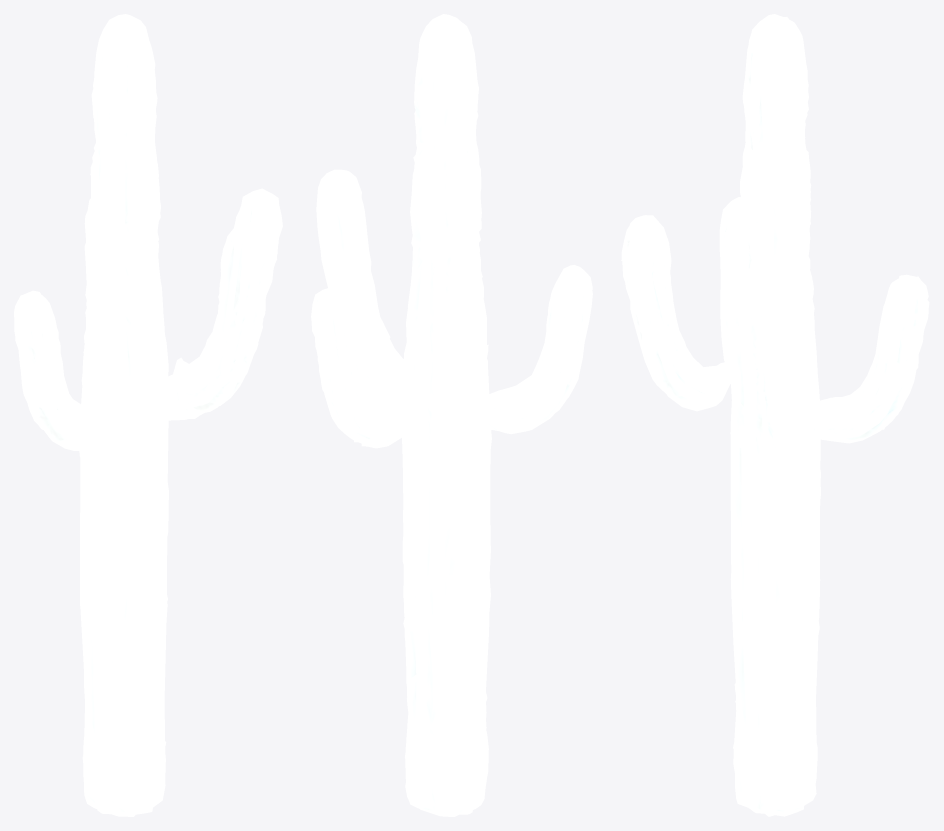
The model's file is saguaro.glb.
3 views of the same model, side by side, from view 1: azimuth 30°, elevation 25°; view 2: azimuth 150°, elevation 25°; view 3: azimuth 270°, elevation 25° (orthographic).
Parts seen in each view (by area): view 1: Mesh_0; view 2: Mesh_0; view 3: Mesh_0.
Boxes of the visible parts, bbox=[...] form: Mesh_0: bbox=[14, 14, 282, 816]; Mesh_0: bbox=[311, 14, 592, 816]; Mesh_0: bbox=[621, 14, 929, 816].
Bounding box in the file's own units: 0.6693 × 1.9 × 0.6718.
Materials: 1 (1 with a texture image).
